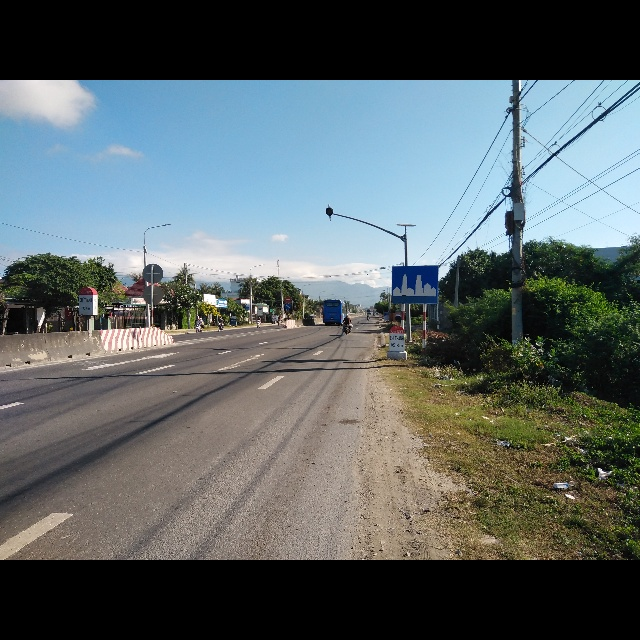Khu đông dân cư: (391, 265, 439, 304)
